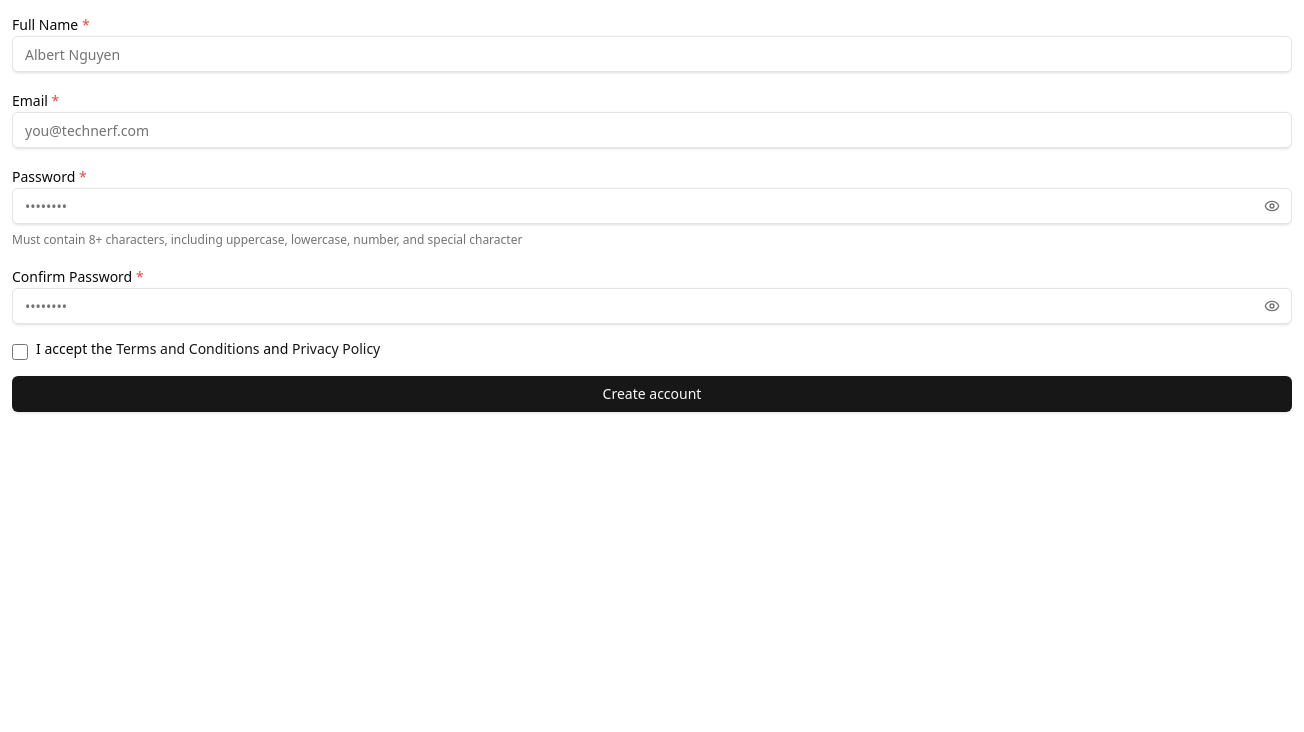
RegisterForm › shows validation error for invalid name format
The image size is (1304, 732).
Type "Test123" into the field labelled "Full Name *". click: {"x": 652, "y": 54}
box: [12,36,1292,72]
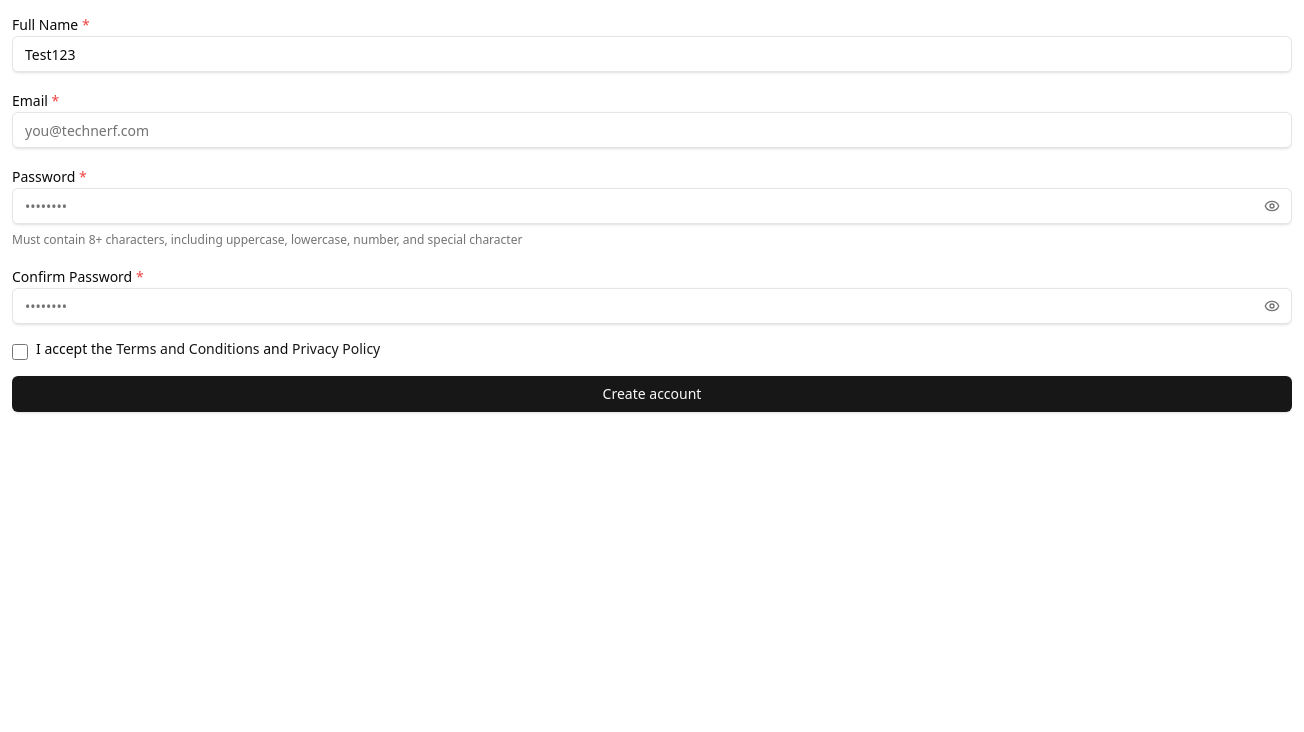
Click the button "Create account". click: {"x": 652, "y": 394}
box: [12,376,1292,412]
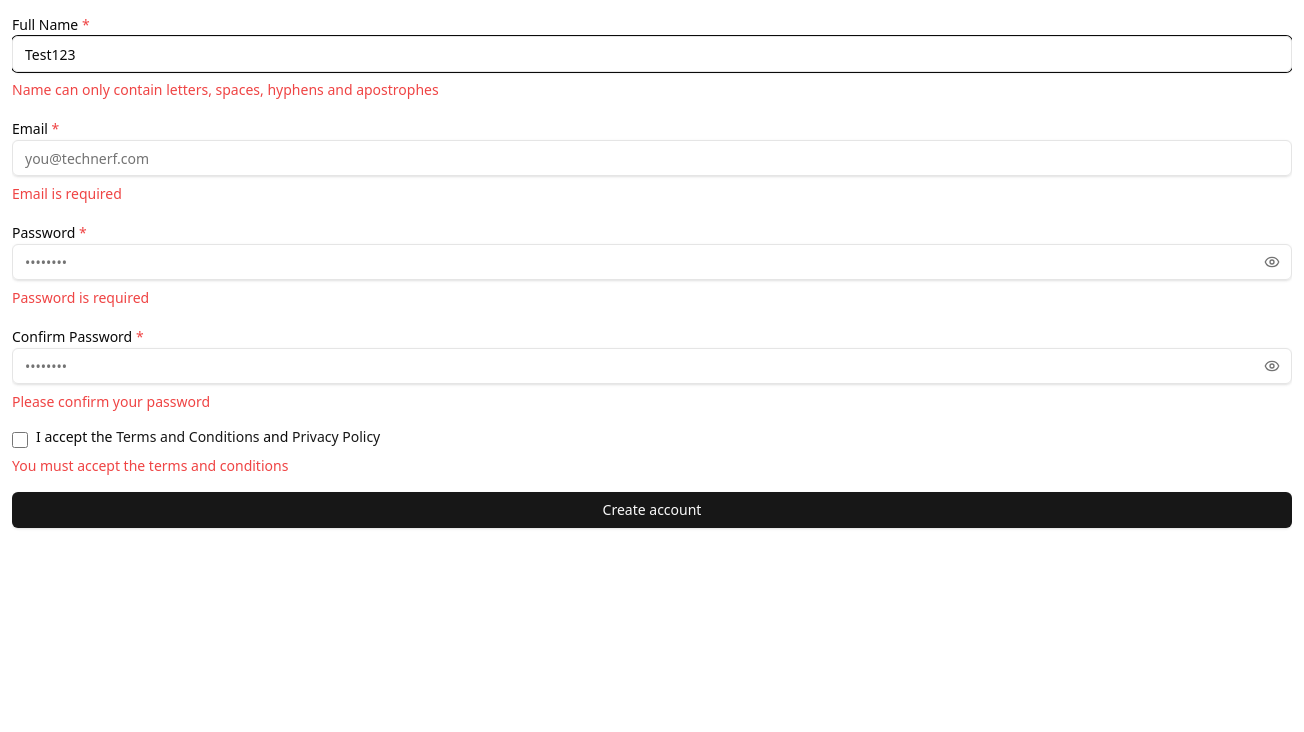
Now the text "Name can only contain letters" is shown, box [12,80,439,99]
